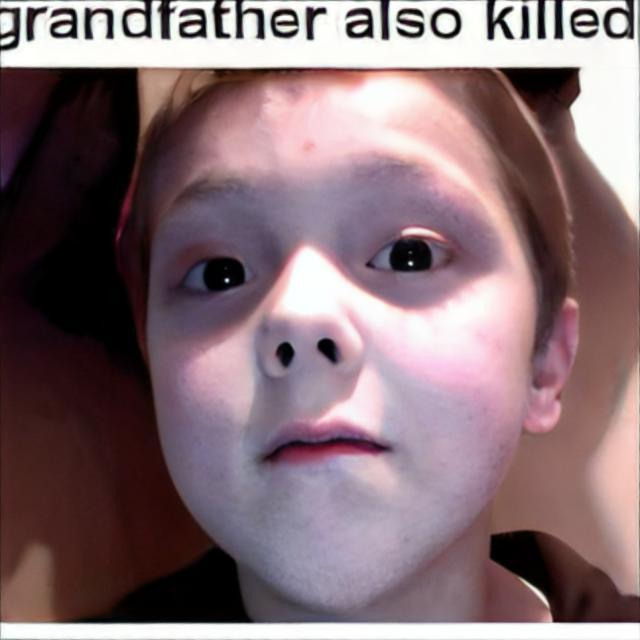surprise: (143, 73, 542, 615)
